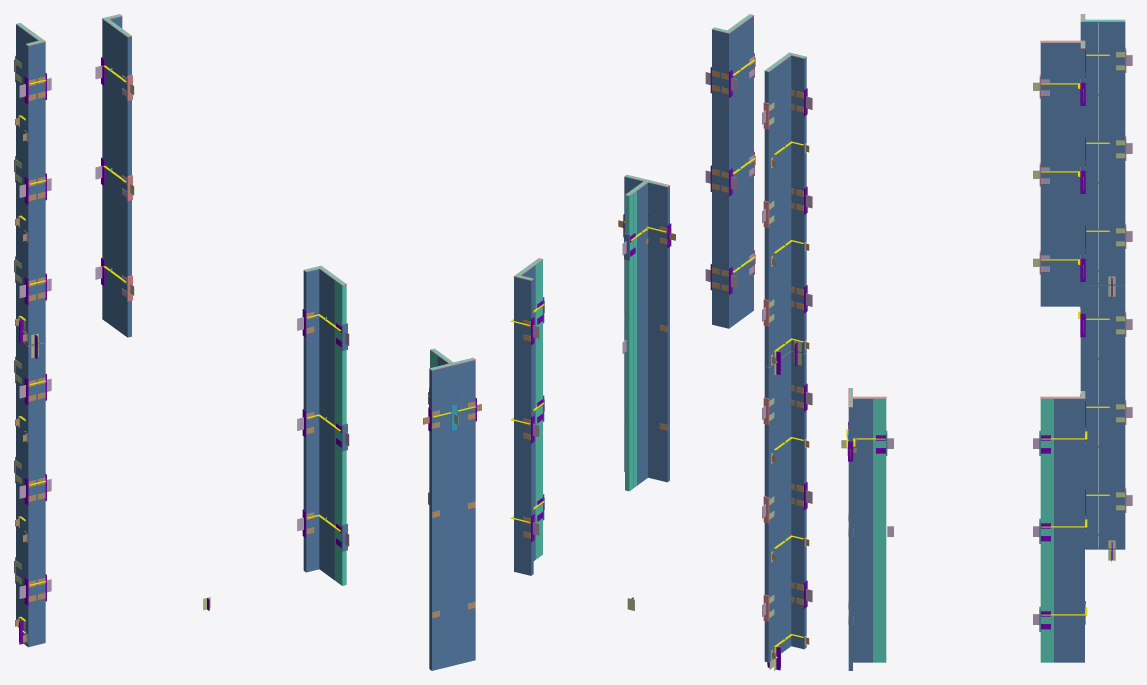
The picture shows the model from 3 angles, left to right: view 1: azimuth 30°, elevation 25°; view 2: azimuth 150°, elevation 25°; view 3: azimuth 270°, elevation 25°; orthographic projection. The views are drawn at different scales.
Parts seen in each view (by area): view 1: 18-3GSQ[1WL3xd0013Ip4sCJOnCpau], 18-3GSQ[1WL3xd001OdZ4sCJOnD30p], 18-4GSQ[1WL3xd0008TJ4sCJOnCpGn], 18-3GSQ[1WL3xd00000p4sCJOnCpCu], 18-3GSQ[1WL3xd0012aZ4sCJOnCpau], 18-4GSQ[1WL3xd000fLJ4sCJOnCpSn], 18-3GSQ[1WL3xd001N0Z4sCJOnD30p], 18-3GSQ[1WL3xd00134Z4sCJOnCpau], 18-3GSQ[1WL3xd0012hp4sCJOnCpau], 18-3GSQ[1WL3xd0013CJ4sCJOnCpau], 18-3GSQ[1WL3xd001ORZ4sCJOnD30p], 18-3GSQ[1WL3xd0012QJ4sCJOnCpau] (+20 smaller); view 2: 18-3GSQ[1WL3xd001OdZ4sCJOnD30p], 18-3GSQ[1WL3xd0013Ip4sCJOnCpau], 18-4GSQ[1WL3xd0008TJ4sCJOnCpGn], 18-3GSQ[1WL3xd00000p4sCJOnCpCu], 18-3GSQ[1WL3xd0013p34sCJOnCpav], 18-3GSQ[1WL3xd0002EJ4sCJOnCpCu], 18-4GSQ[1WL3xd0007XZ4sCJOnCpGn], 18-3GSQ[1WL3xd00134Z4sCJOnCpau], 18-3GSQ[1WL3xd0013CJ4sCJOnCpau], 18-3GSQ[1WL3xd001ORZ4sCJOnD30p], 18-4GSQ[1WL3xd000hLZ4sCJOnCpSn], 18-4GSQ[1WL3xd0007_34sCJOnCpGn] (+27 smaller); view 3: 18-3GSQ[1WL3xd0013Z34sCJOnCpav], 18-4GSQ[1WL3xd000gRJ4sCJOnCpSn], 18-3GSQ[1WL3xd001Nlp4sCJOnD30p], 18-3GSQ[1WL3xd0001rJ4sCJOnCpCu], 18-3GSQ[1WL3xd0001bJ4sCJOnCpCu], 18-4GSQ[1WL3xd0006eZ4sCJOnCpGn], 18-4GSQ[1WL3xd0006y34sCJOnCpGn], 18-3GSQ[1WL3xd0013p34sCJOnCpav], 18-3GSQ[1WL3xd0002EJ4sCJOnCpCu], 18-4GSQ[1WL3xd0007XZ4sCJOnCpGn], 18-4GSQ[1WL3xd000fLJ4sCJOnCpSn], 18-3GSQ[1WL3xd001N0Z4sCJOnD30p] (+20 smaller).
Boxes of the visible parts, x1=… form: 18-3GSQ[1WL3xd0013Ip4sCJOnCpau]: x1=429, y1=369, x2=438, y2=670; 18-3GSQ[1WL3xd001OdZ4sCJOnD30p]: x1=303, y1=271, x2=312, y2=572; 18-4GSQ[1WL3xd0008TJ4sCJOnCpGn]: x1=25, y1=45, x2=34, y2=346; 18-3GSQ[1WL3xd00000p4sCJOnCpCu]: x1=25, y1=345, x2=34, y2=647; 18-3GSQ[1WL3xd0012aZ4sCJOnCpau]: x1=462, y1=362, x2=469, y2=663; 18-4GSQ[1WL3xd000fLJ4sCJOnCpSn]: x1=123, y1=35, x2=131, y2=337; 18-3GSQ[1WL3xd001N0Z4sCJOnD30p]: x1=338, y1=283, x2=346, y2=585; 18-3GSQ[1WL3xd00134Z4sCJOnCpau]: x1=445, y1=366, x2=451, y2=667; 18-3GSQ[1WL3xd0012hp4sCJOnCpau]: x1=456, y1=363, x2=462, y2=664; 18-3GSQ[1WL3xd0013CJ4sCJOnCpau]: x1=438, y1=367, x2=444, y2=668; 18-3GSQ[1WL3xd001ORZ4sCJOnD30p]: x1=313, y1=269, x2=319, y2=570; 18-3GSQ[1WL3xd0012QJ4sCJOnCpau]: x1=469, y1=360, x2=475, y2=661; 18-3GSQ[1WL3xd001OdZ4sCJOnD30p]: x1=524, y1=279, x2=533, y2=575; 18-3GSQ[1WL3xd0013Ip4sCJOnCpau]: x1=661, y1=186, x2=669, y2=482; 18-4GSQ[1WL3xd0008TJ4sCJOnCpGn]: x1=797, y1=57, x2=806, y2=353; 18-3GSQ[1WL3xd00000p4sCJOnCpCu]: x1=797, y1=353, x2=806, y2=649; 18-3GSQ[1WL3xd0013p34sCJOnCpav]: x1=625, y1=194, x2=632, y2=491; 18-3GSQ[1WL3xd0002EJ4sCJOnCpCu]: x1=764, y1=365, x2=772, y2=662; 18-4GSQ[1WL3xd0007XZ4sCJOnCpGn]: x1=764, y1=70, x2=772, y2=366; 18-3GSQ[1WL3xd00134Z4sCJOnCpau]: x1=648, y1=183, x2=654, y2=479; 18-3GSQ[1WL3xd0013CJ4sCJOnCpau]: x1=654, y1=184, x2=660, y2=480; 18-3GSQ[1WL3xd001ORZ4sCJOnD30p]: x1=518, y1=278, x2=524, y2=574; 18-4GSQ[1WL3xd000hLZ4sCJOnCpSn]: x1=718, y1=31, x2=724, y2=327; 18-4GSQ[1WL3xd0007_34sCJOnCpGn]: x1=791, y1=56, x2=797, y2=351; 18-3GSQ[1WL3xd0013Z34sCJOnCpav]: x1=859, y1=399, x2=866, y2=662; 18-4GSQ[1WL3xd000gRJ4sCJOnCpSn]: x1=1060, y1=43, x2=1067, y2=306; 18-3GSQ[1WL3xd001Nlp4sCJOnD30p]: x1=1060, y1=399, x2=1067, y2=662; 18-3GSQ[1WL3xd0001rJ4sCJOnCpCu]: x1=1098, y1=286, x2=1105, y2=549; 18-3GSQ[1WL3xd0001bJ4sCJOnCpCu]: x1=1091, y1=286, x2=1098, y2=549; 18-4GSQ[1WL3xd0006eZ4sCJOnCpGn]: x1=1091, y1=22, x2=1098, y2=285; 18-4GSQ[1WL3xd0006y34sCJOnCpGn]: x1=1098, y1=22, x2=1105, y2=285; 18-3GSQ[1WL3xd0013p34sCJOnCpav]: x1=879, y1=399, x2=886, y2=662; 18-3GSQ[1WL3xd0002EJ4sCJOnCpCu]: x1=1118, y1=286, x2=1125, y2=549; 18-4GSQ[1WL3xd0007XZ4sCJOnCpGn]: x1=1118, y1=22, x2=1125, y2=285; 18-4GSQ[1WL3xd000fLJ4sCJOnCpSn]: x1=1040, y1=43, x2=1047, y2=306; 18-3GSQ[1WL3xd001N0Z4sCJOnD30p]: x1=1040, y1=399, x2=1047, y2=662.
Bounding box in the file's own units: 9.99 × 17.96 × 8.71.
